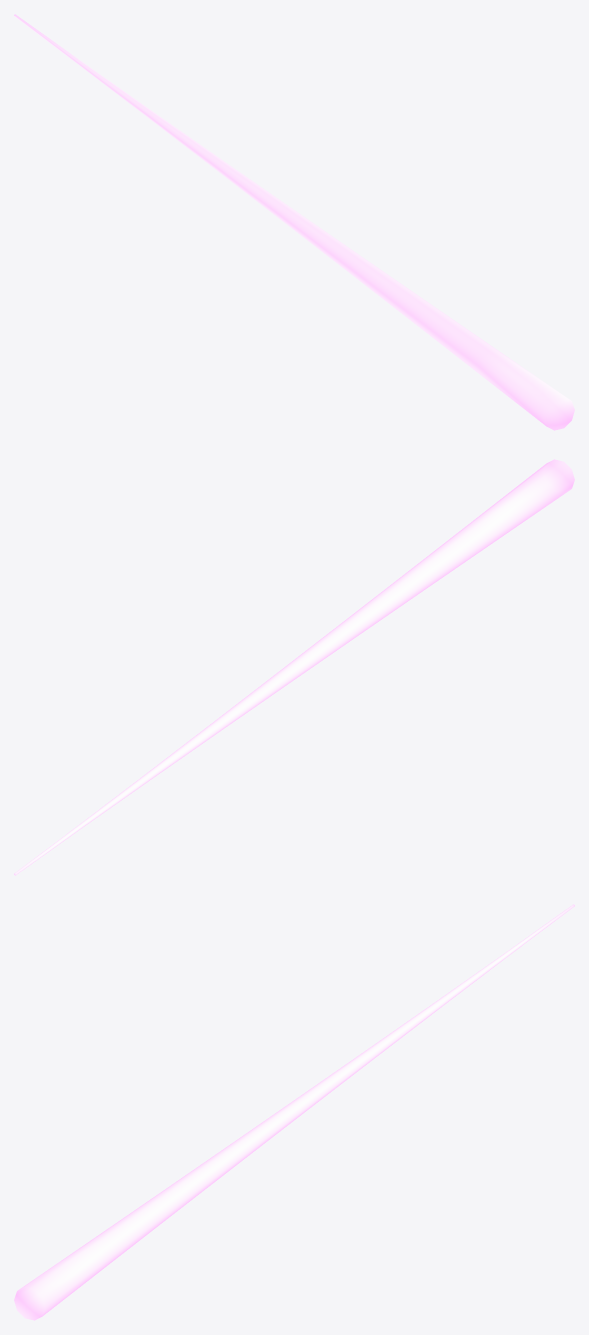
The model's file is BONEQUILL_arrow_trail_vfx.fbx.
The picture shows the model from 3 angles, top to bottom: view 1: azimuth 30°, elevation 25°; view 2: azimuth 150°, elevation 25°; view 3: azimuth 330°, elevation 25°; orthographic projection.
Visible parts, largest first — view 1: BONEQUILL_arrow_trail_vfx; view 2: BONEQUILL_arrow_trail_vfx; view 3: BONEQUILL_arrow_trail_vfx.
Boxes of the visible parts, x1=… form: BONEQUILL_arrow_trail_vfx: x1=14, y1=14, x2=574, y2=430; BONEQUILL_arrow_trail_vfx: x1=14, y1=459, x2=574, y2=875; BONEQUILL_arrow_trail_vfx: x1=14, y1=904, x2=574, y2=1320.
Size of the model in its own units: 0.03 by 0.0285 by 0.9.
